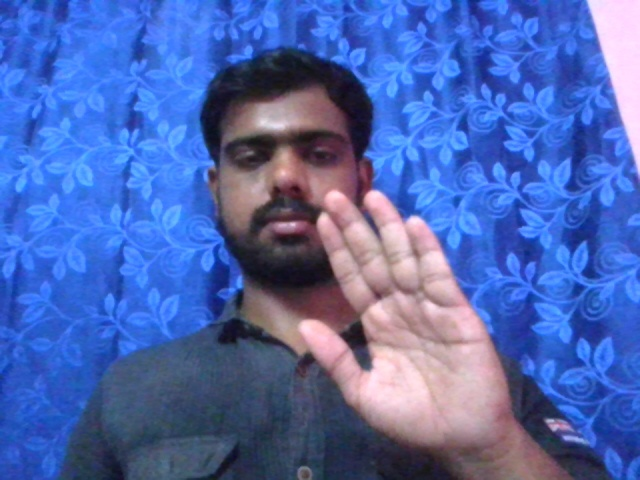Hello: (293, 186, 503, 442)
